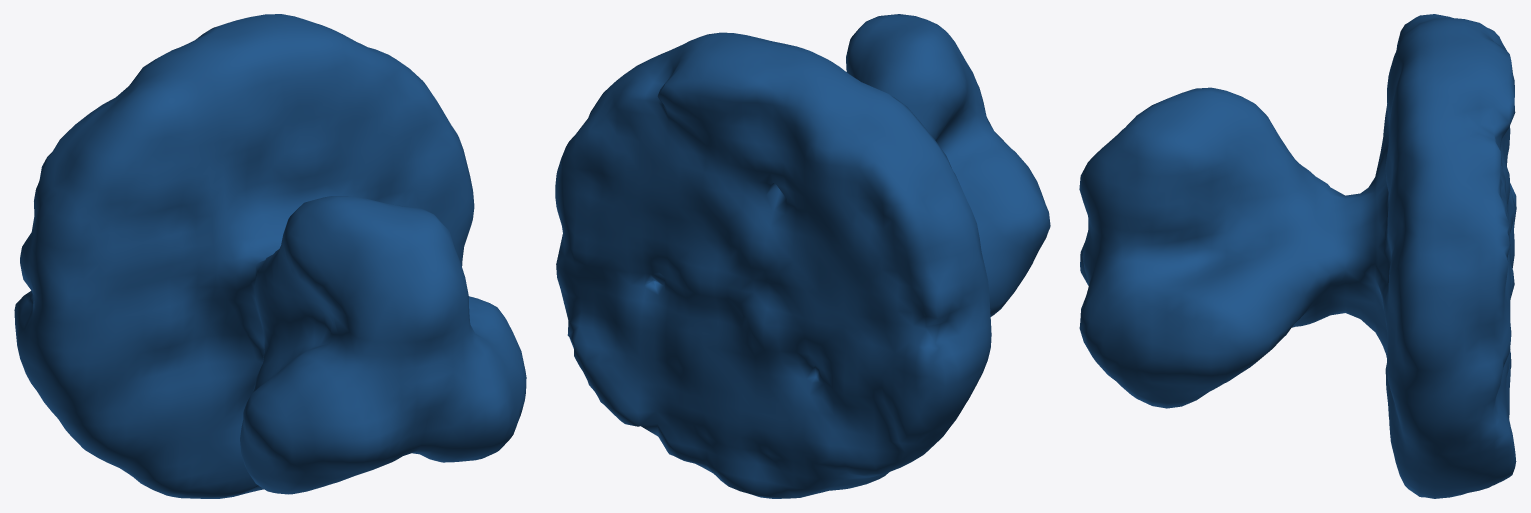
File: 3DPX-005119.glb
3 renders of one model, left to right at view 1: azimuth 30°, elevation 25°; view 2: azimuth 150°, elevation 25°; view 3: azimuth 270°, elevation 25°, orthographic. The views are drawn at different scales.
Parts seen in each view (by area): view 1: surface; view 2: surface; view 3: surface.
Boxes of the visible parts, x1,y1,x2,y2 form: surface: (14,14,526,498); surface: (555,14,1050,498); surface: (1079,14,1516,498).
Size of the model in its own units: 187 by 186 by 167.
